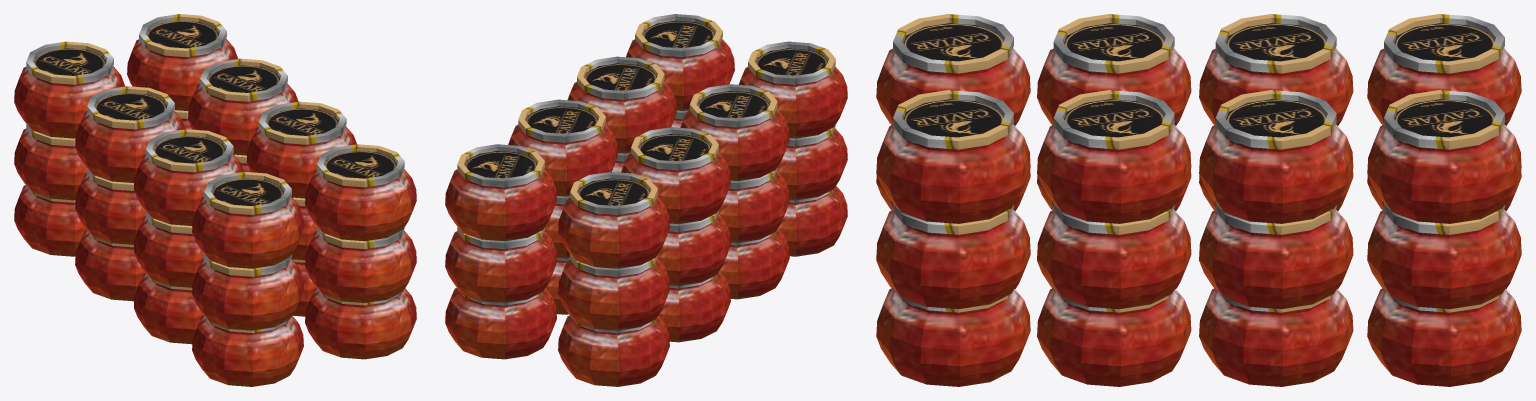
File: caviarredpile.fbx
3 views of the same model, side by side, from view 1: azimuth 30°, elevation 25°; view 2: azimuth 150°, elevation 25°; view 3: azimuth 270°, elevation 25° (orthographic). The views are drawn at different scales.
Visible parts, largest first — view 1: Caviar jar.001; view 2: Caviar jar.001; view 3: Caviar jar.001.
Boxes of the visible parts, x1,y1,x2,y2 form: Caviar jar.001: (14, 14, 416, 386); Caviar jar.001: (445, 14, 847, 386); Caviar jar.001: (876, 14, 1521, 386).
Size of the model in its own units: 92.87 by 74.95 by 179.
